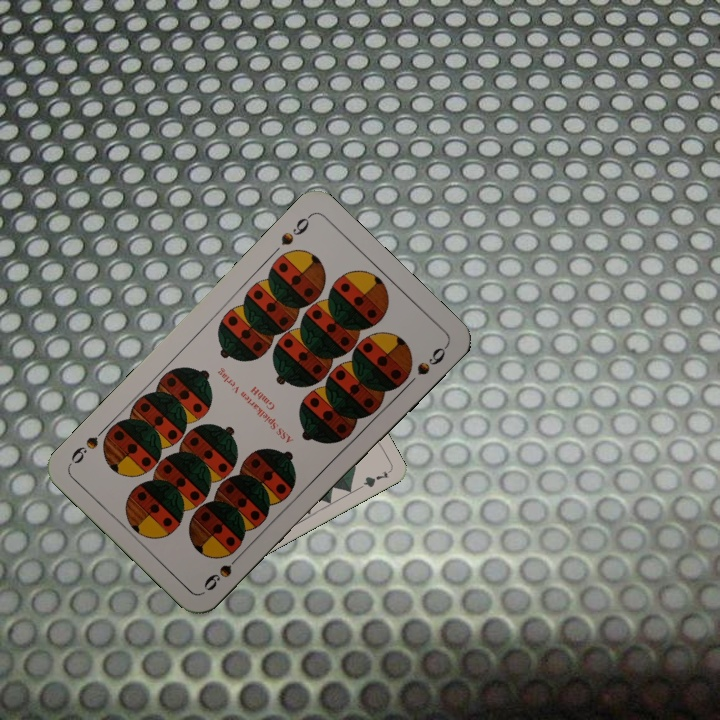S9: (199, 547, 246, 594), (277, 210, 314, 249)
